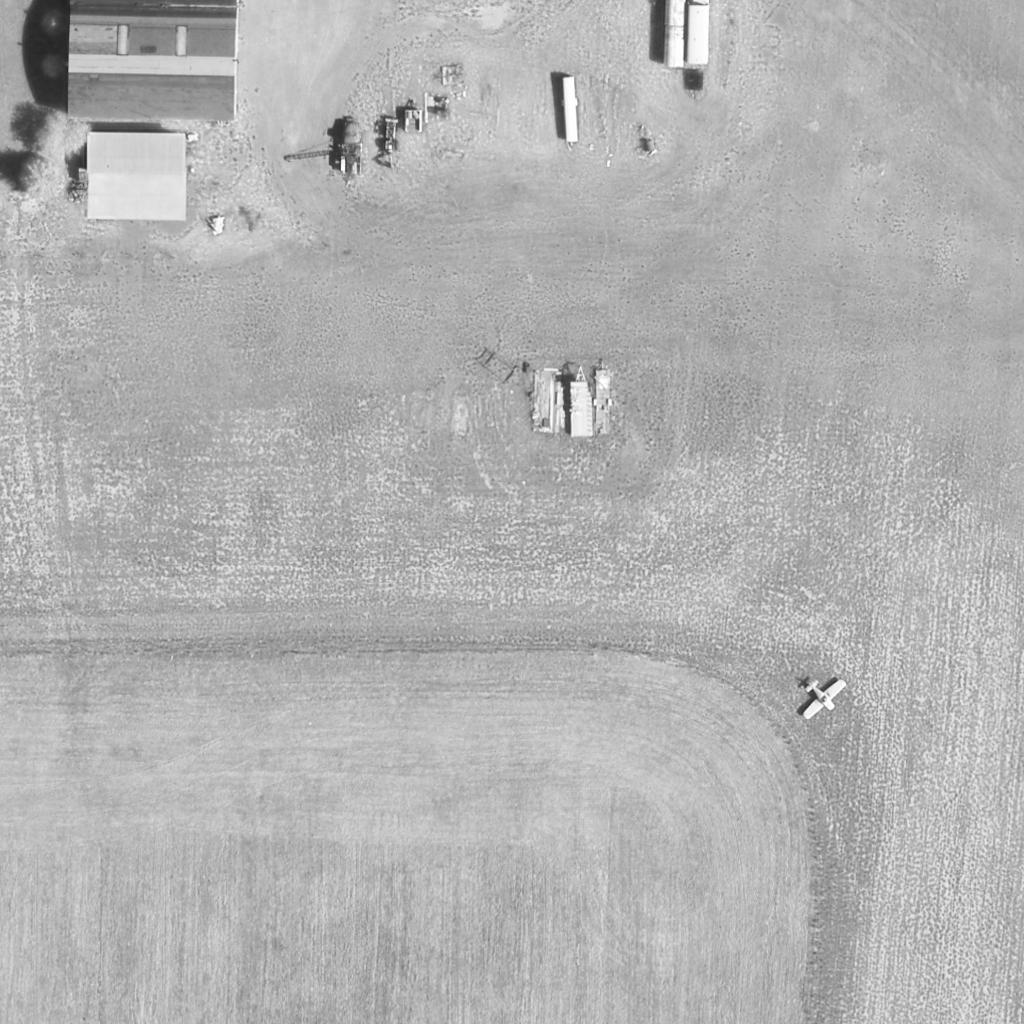vehicle: (339, 119, 363, 177)
